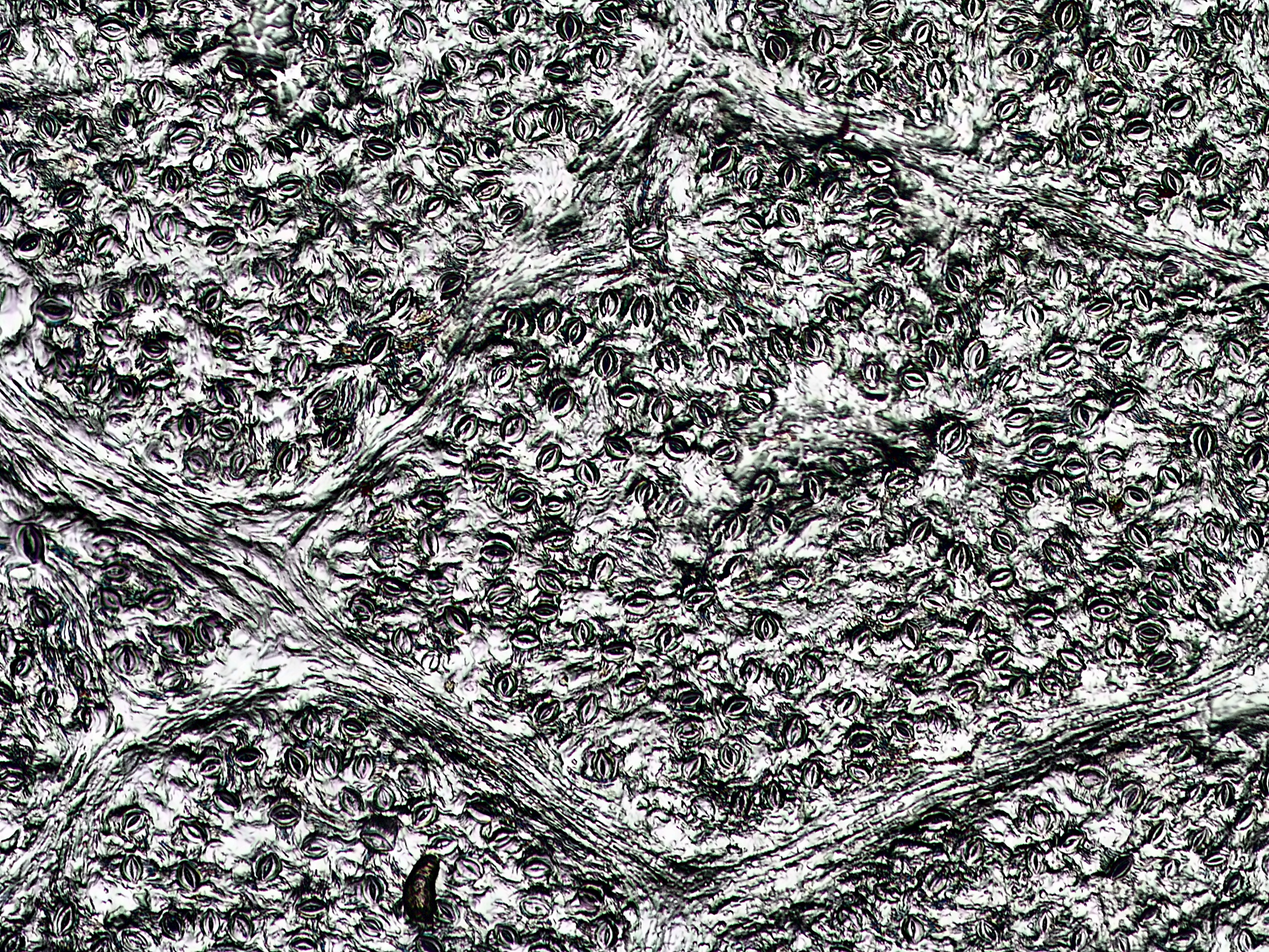stomata: (15, 523, 47, 563), (361, 330, 393, 363), (11, 230, 45, 259), (253, 850, 282, 882), (939, 420, 966, 454), (34, 298, 72, 322), (1041, 539, 1073, 567), (357, 831, 395, 854), (1053, 0, 1082, 30), (156, 910, 185, 940), (1088, 40, 1116, 71), (709, 145, 737, 175), (1107, 853, 1135, 883), (593, 346, 619, 378), (96, 15, 129, 40), (555, 11, 583, 40), (499, 413, 527, 442), (535, 443, 563, 472), (174, 860, 200, 891), (282, 748, 308, 779), (654, 341, 680, 372), (1219, 11, 1243, 44), (1099, 334, 1132, 358), (630, 294, 654, 327), (718, 308, 745, 337), (548, 387, 575, 416), (443, 605, 470, 634), (534, 569, 564, 595), (409, 802, 439, 828), (339, 786, 365, 816), (230, 913, 256, 943), (1057, 829, 1087, 855), (1149, 571, 1180, 596), (286, 303, 310, 335), (768, 329, 792, 361), (1043, 345, 1076, 368), (1155, 342, 1182, 370), (120, 807, 147, 835), (452, 413, 478, 442), (996, 247, 1022, 276), (672, 285, 698, 314), (964, 609, 990, 638), (151, 211, 176, 241), (898, 619, 923, 649), (391, 172, 415, 203), (1123, 117, 1154, 141), (602, 435, 633, 459), (300, 834, 331, 858), (630, 228, 667, 248), (1163, 95, 1195, 118), (1022, 607, 1057, 628), (473, 137, 501, 163), (1070, 401, 1096, 429), (1120, 783, 1146, 811), (848, 624, 874, 652), (741, 267, 774, 289), (783, 714, 805, 747), (389, 286, 414, 315), (800, 653, 825, 682), (799, 327, 823, 357), (195, 619, 219, 649), (319, 206, 342, 237), (846, 729, 877, 752), (286, 353, 308, 385), (819, 248, 851, 270), (785, 241, 807, 273), (268, 803, 300, 825), (1183, 548, 1205, 580), (1196, 153, 1223, 179), (574, 459, 600, 486), (833, 691, 860, 717), (267, 136, 292, 164), (134, 274, 159, 302), (374, 227, 402, 252), (590, 554, 615, 582), (622, 595, 657, 615), (366, 502, 394, 527), (402, 10, 426, 39), (1110, 388, 1139, 412), (754, 611, 778, 640), (434, 271, 464, 294), (1074, 124, 1104, 147), (537, 304, 560, 334), (1122, 485, 1152, 508), (1095, 166, 1126, 188), (577, 692, 599, 723), (859, 34, 893, 54), (480, 542, 514, 562), (865, 241, 892, 266), (472, 178, 504, 199), (865, 0, 897, 21), (1244, 444, 1268, 472), (1087, 599, 1119, 620), (309, 388, 338, 411), (707, 345, 730, 374), (416, 527, 439, 556), (453, 857, 482, 880), (468, 463, 505, 481), (1195, 423, 1214, 458), (1021, 299, 1043, 329), (520, 353, 550, 375), (116, 645, 138, 675), (55, 903, 75, 936), (321, 744, 341, 777), (360, 874, 382, 904), (593, 749, 615, 779), (1175, 26, 1196, 57), (469, 18, 495, 43), (995, 96, 1021, 121), (764, 34, 788, 61), (858, 68, 882, 95), (1160, 167, 1184, 194), (1148, 817, 1172, 844), (601, 643, 635, 662), (142, 590, 176, 609), (323, 422, 346, 450), (565, 316, 588, 344), (1241, 522, 1264, 550), (908, 515, 931, 543), (247, 196, 267, 228), (1050, 259, 1070, 291), (1074, 498, 1106, 518), (617, 673, 649, 693), (518, 898, 550, 918), (207, 231, 236, 253), (811, 25, 833, 54), (120, 854, 142, 883), (901, 915, 923, 944), (455, 233, 485, 254), (1084, 298, 1114, 319), (299, 707, 320, 737), (294, 899, 329, 917), (1214, 780, 1235, 810), (987, 568, 1017, 589), (951, 541, 972, 571), (683, 590, 716, 609), (1036, 473, 1061, 498), (28, 601, 53, 626), (493, 923, 518, 948), (35, 114, 59, 140), (8, 148, 32, 174), (224, 148, 248, 174), (201, 287, 225, 313), (307, 278, 331, 304), (423, 195, 449, 219), (8, 654, 34, 678), (591, 923, 615, 949), (814, 71, 841, 94), (663, 437, 690, 460), (655, 626, 678, 653), (179, 822, 206, 845), (680, 753, 703, 780), (962, 837, 985, 864), (1203, 518, 1226, 545), (868, 209, 899, 229), (377, 576, 408, 596), (366, 51, 394, 73), (391, 627, 413, 655), (211, 790, 239, 812), (978, 918, 1000, 946), (143, 80, 164, 109), (356, 269, 385, 290), (779, 159, 800, 188), (737, 214, 766, 235), (1005, 486, 1034, 507), (118, 929, 147, 950), (116, 159, 135, 191), (1200, 200, 1232, 219), (542, 530, 574, 549), (1102, 558, 1134, 577), (215, 383, 239, 408), (777, 202, 801, 227), (1096, 93, 1126, 113), (536, 699, 561, 723), (99, 586, 123, 611), (434, 900, 459, 924), (111, 103, 134, 129), (92, 229, 115, 255), (114, 377, 140, 400), (183, 452, 209, 475), (491, 361, 514, 387), (752, 474, 775, 500), (493, 671, 516, 697), (1225, 338, 1247, 365), (944, 266, 966, 293), (923, 341, 945, 368), (570, 618, 592, 645), (740, 656, 762, 683), (920, 592, 947, 614), (993, 719, 1024, 738), (1134, 623, 1165, 642), (309, 29, 330, 57), (96, 325, 124, 346), (509, 46, 530, 74), (594, 6, 622, 27), (925, 60, 946, 88), (968, 340, 989, 368), (599, 288, 620, 316), (652, 394, 673, 422), (417, 81, 446, 101), (170, 624, 190, 653), (200, 908, 220, 937), (521, 858, 550, 878), (362, 140, 396, 157), (171, 132, 203, 150), (1157, 465, 1181, 489), (991, 528, 1015, 552), (104, 288, 127, 313), (740, 164, 763, 189), (999, 365, 1022, 390), (1126, 523, 1149, 548), (36, 687, 58, 713), (1248, 159, 1267, 189), (765, 779, 784, 809), (30, 0, 57, 21), (57, 187, 84, 208), (178, 410, 199, 437), (279, 445, 300, 472), (719, 742, 740, 769), (198, 755, 225, 776), (509, 632, 542, 649), (543, 104, 563, 132), (1029, 436, 1057, 456), (339, 718, 367, 738), (1011, 46, 1035, 69), (821, 178, 844, 202), (1244, 221, 1267, 245), (825, 297, 848, 321), (931, 647, 954, 671), (246, 96, 275, 115), (543, 61, 572, 80), (1133, 194, 1162, 213), (220, 57, 245, 79), (508, 3, 530, 28), (690, 401, 712, 426), (320, 171, 346, 192), (873, 284, 894, 310), (1058, 649, 1084, 670), (197, 94, 224, 114), (294, 123, 314, 150), (266, 259, 286, 286), (823, 150, 850, 170), (866, 188, 896, 206), (1130, 43, 1150, 70), (1131, 285, 1151, 312), (950, 681, 980, 699), (804, 474, 823, 502), (635, 480, 658, 503), (911, 19, 933, 43), (901, 249, 925, 271), (696, 650, 720, 672), (374, 785, 396, 809), (1222, 872, 1244, 896), (1004, 409, 1035, 426), (487, 589, 518, 606), (231, 451, 252, 476), (889, 720, 914, 741), (148, 370, 177, 388), (1237, 410, 1266, 428), (436, 148, 462, 168), (1186, 375, 1206, 401), (989, 647, 1015, 667), (1105, 632, 1125, 658), (1008, 673, 1028, 699), (724, 697, 751, 716), (234, 748, 261, 767), (354, 752, 373, 779), (356, 917, 383, 936), (773, 664, 792, 691), (1147, 652, 1177, 669), (574, 118, 596, 141), (589, 44, 610, 68), (899, 318, 920, 342), (1097, 453, 1125, 471), (780, 571, 808, 589), (103, 563, 131, 581), (499, 202, 524, 222), (486, 100, 512, 119), (726, 513, 745, 539), (445, 51, 466, 74), (95, 58, 119, 78), (982, 290, 1006, 310), (510, 487, 534, 507), (767, 512, 787, 536), (1026, 849, 1043, 877), (173, 29, 198, 48), (162, 166, 180, 192), (142, 340, 168, 358), (421, 490, 447, 508), (1061, 458, 1087, 476), (629, 528, 655, 546), (887, 474, 918, 489), (861, 362, 882, 384), (1158, 858, 1179, 880), (1187, 827, 1209, 848), (347, 20, 367, 43), (341, 66, 364, 86), (666, 494, 686, 517), (276, 178, 303, 195), (801, 761, 818, 788), (740, 395, 764, 414), (529, 605, 559, 620), (902, 371, 928, 388), (406, 115, 425, 138), (57, 228, 76, 251), (77, 117, 93, 144), (210, 423, 235, 440), (514, 114, 531, 139), (677, 690, 702, 707), (1236, 927, 1253, 952), (847, 498, 877, 512), (838, 521, 865, 536), (220, 332, 242, 350), (1174, 292, 1202, 306), (503, 310, 520, 333), (615, 389, 638, 406), (865, 159, 890, 174), (1037, 911, 1052, 936), (1203, 853, 1228, 868), (203, 181, 228, 195), (363, 98, 385, 113), (1220, 309, 1245, 321), (545, 498, 564, 512)
